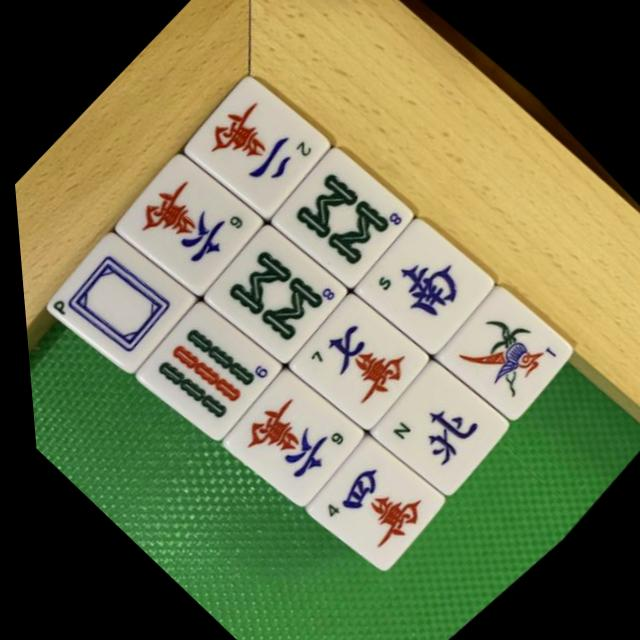hdw: (29, 218, 217, 396)
hwn: (353, 348, 524, 509)
hws: (336, 201, 511, 366)
sb1: (419, 265, 593, 428)
sb8: (181, 209, 368, 384), (251, 130, 434, 302)
sb9: (117, 285, 302, 459)
sc2: (165, 58, 355, 237)
sc4: (286, 420, 460, 584)
sc6: (95, 139, 285, 317), (203, 354, 386, 526)
sc7: (266, 278, 445, 446)
